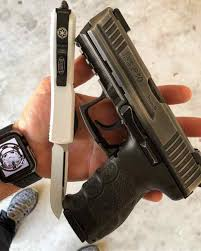gun: (76, 5, 201, 244)
